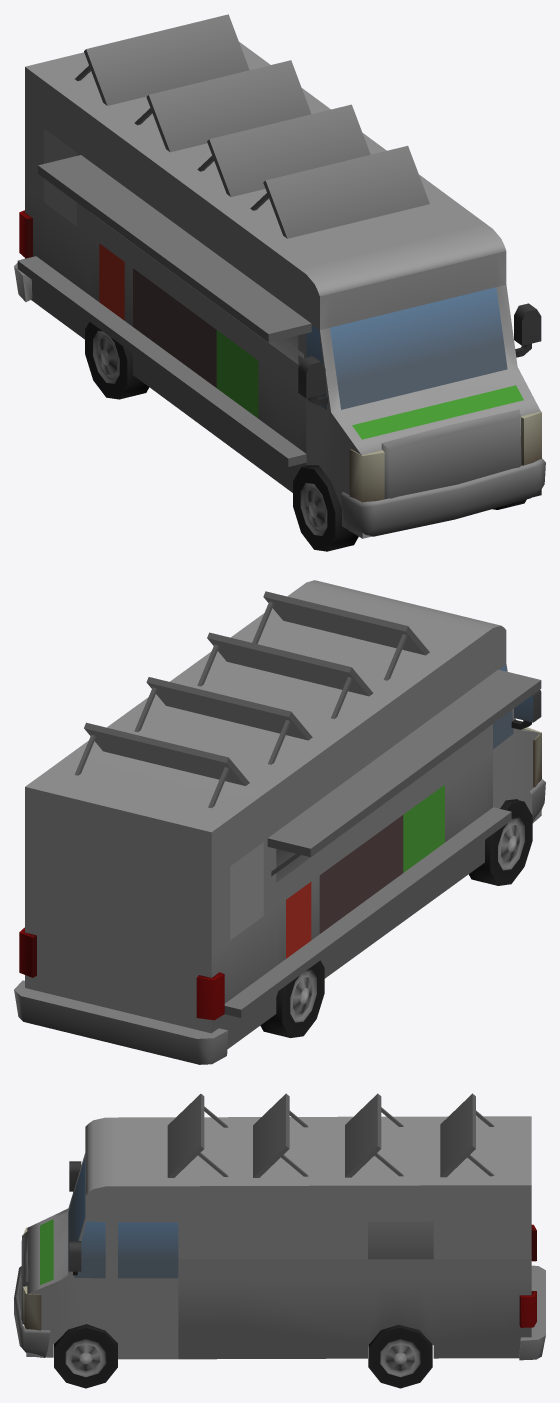
File: vehicles-trucks-vans-solar-van_v1.fbx
3 renders of one model, top to bottom at view 1: azimuth 30°, elevation 25°; view 2: azimuth 150°, elevation 25°; view 3: azimuth 270°, elevation 25°, orthographic. The views are drawn at different scales.
Parts seen in each view (by area): view 1: Solar Van; view 2: Solar Van; view 3: Solar Van.
Part boxes in pixels (x1,y1,x2,y2): Solar Van: [14, 14, 545, 551]; Solar Van: [14, 580, 545, 1064]; Solar Van: [14, 1093, 545, 1388].
Size of the model in its own units: 2.71 by 3.13 by 6.5.
